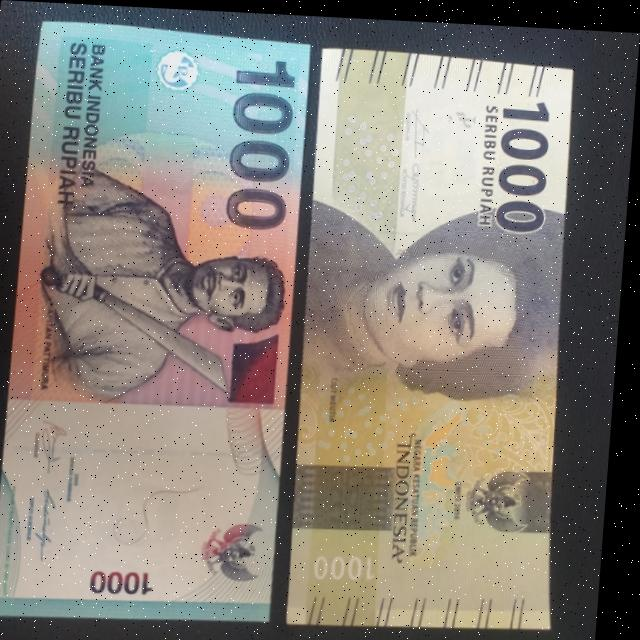1000IndonesianRupiah: (292, 51, 596, 630)
